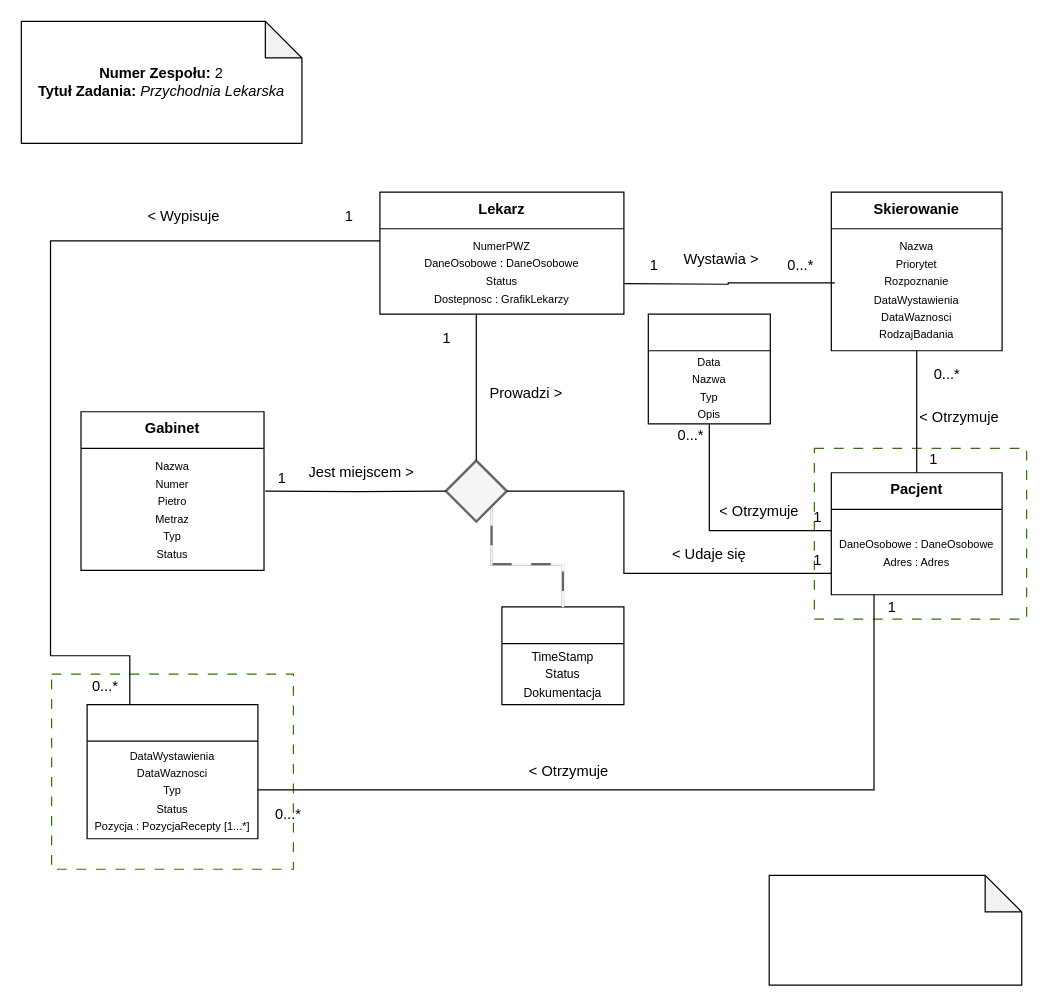
The diagram is 1048 pixels wide and 1007 high, and some of its shapes have lost their labels. The shapes that lost their labels are listed below. From the top down, each one's box as (x1, y1, x2, y2) in pixels, then its label:
(647, 313, 770, 424): WynikBadania
(501, 606, 624, 705): Wizyta
(86, 703, 258, 839): Recepta
